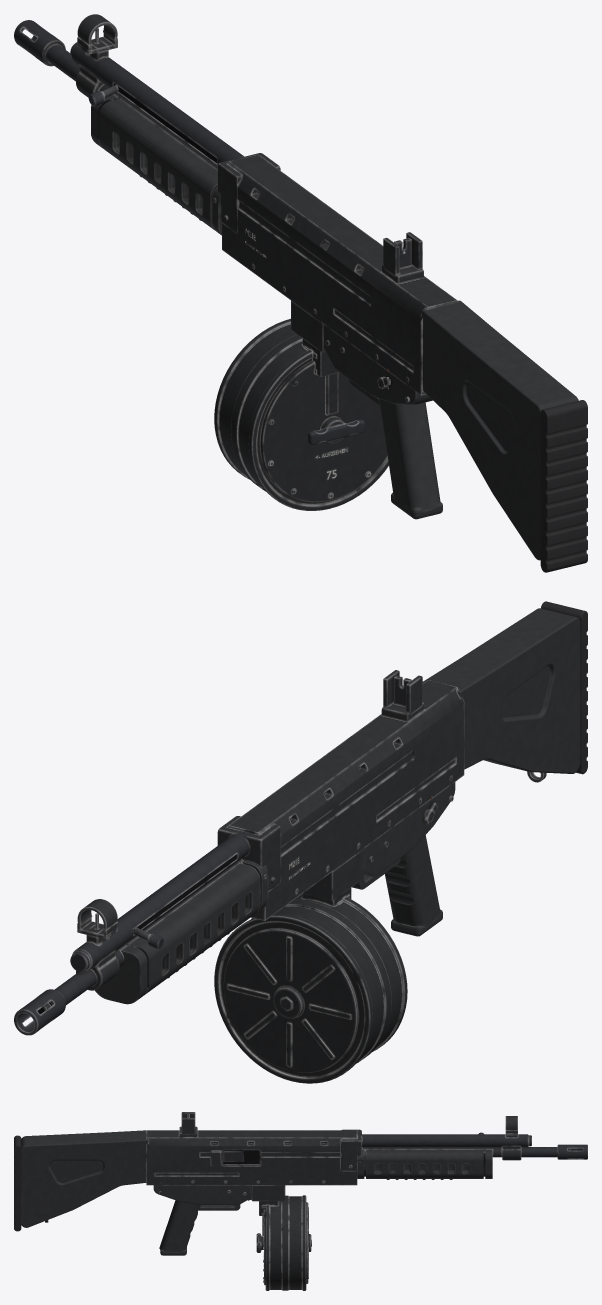
File: mg2_built.glb
The picture shows the model from 3 angles, top to bottom: view 1: azimuth 30°, elevation 25°; view 2: azimuth 150°, elevation 25°; view 3: azimuth 270°, elevation 25°; orthographic projection. The views are drawn at different scales.
Parts seen in each view (by area): view 1: Body, Magazine; view 2: Body, Magazine; view 3: Body, Magazine.
Part boxes in pixels (box(x1,y1,x2,y2)): Body: box(14, 14, 587, 572); Magazine: box(214, 318, 388, 510); Body: box(14, 601, 587, 1035); Magazine: box(214, 888, 407, 1083); Body: box(14, 1112, 587, 1255); Magazine: box(256, 1195, 311, 1290).
Bounding box in the file's own units: 0.17 × 0.3355 × 1.02.
2 materials, 2 textured.
